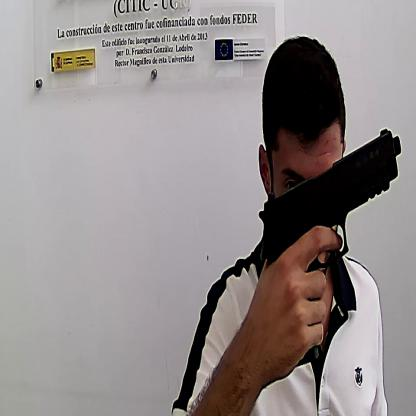gun: (257, 126, 403, 369)
